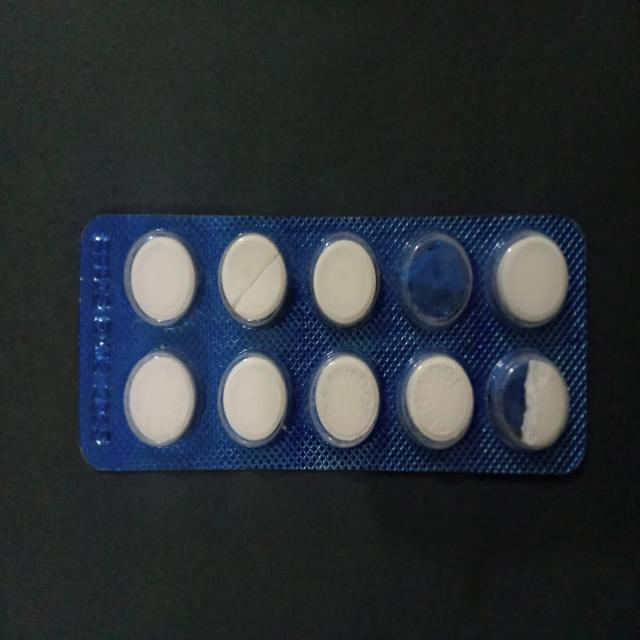defect: (482, 345, 574, 458), (396, 227, 478, 334), (215, 228, 293, 332)
